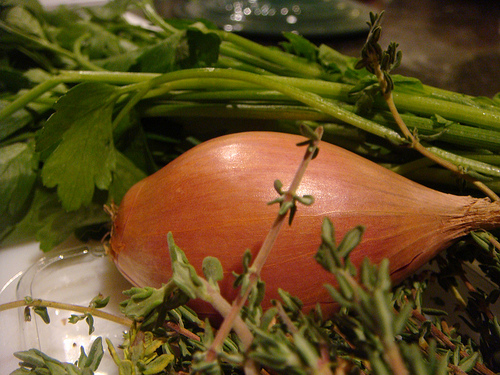onion: (107, 129, 499, 323)
